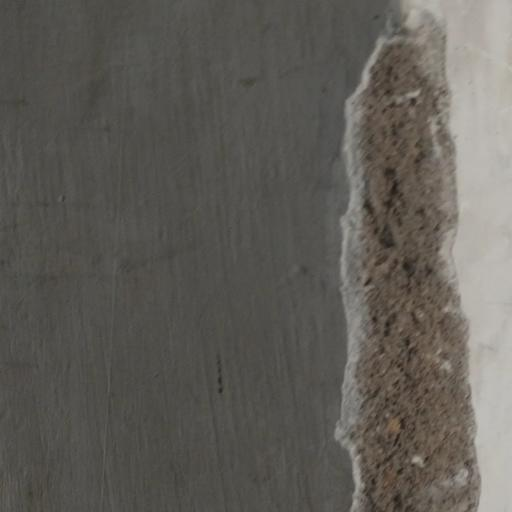spalling: (327, 4, 501, 512)
